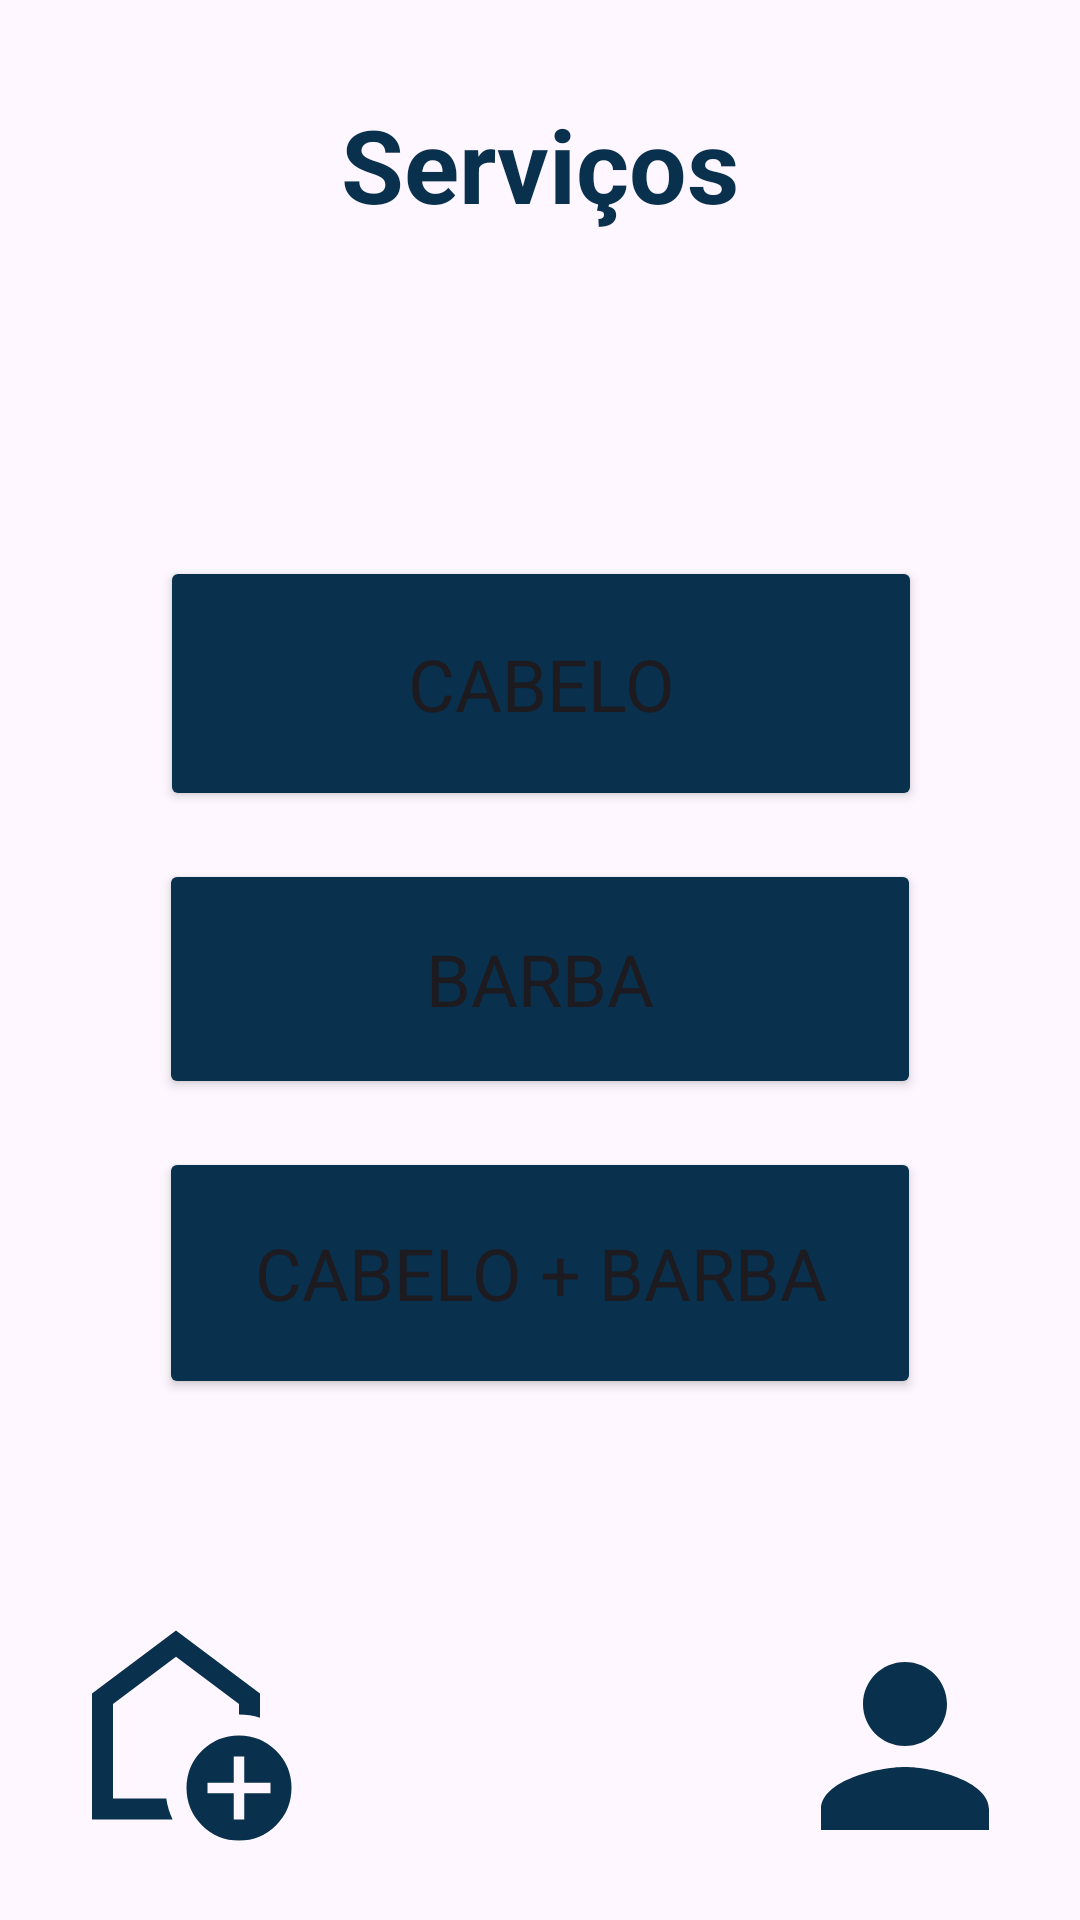

Where to tap for icons on this 1080 x 1920 app screen, as point (x, y):
home: point (192, 1735)
pessoa: point (905, 1746)
